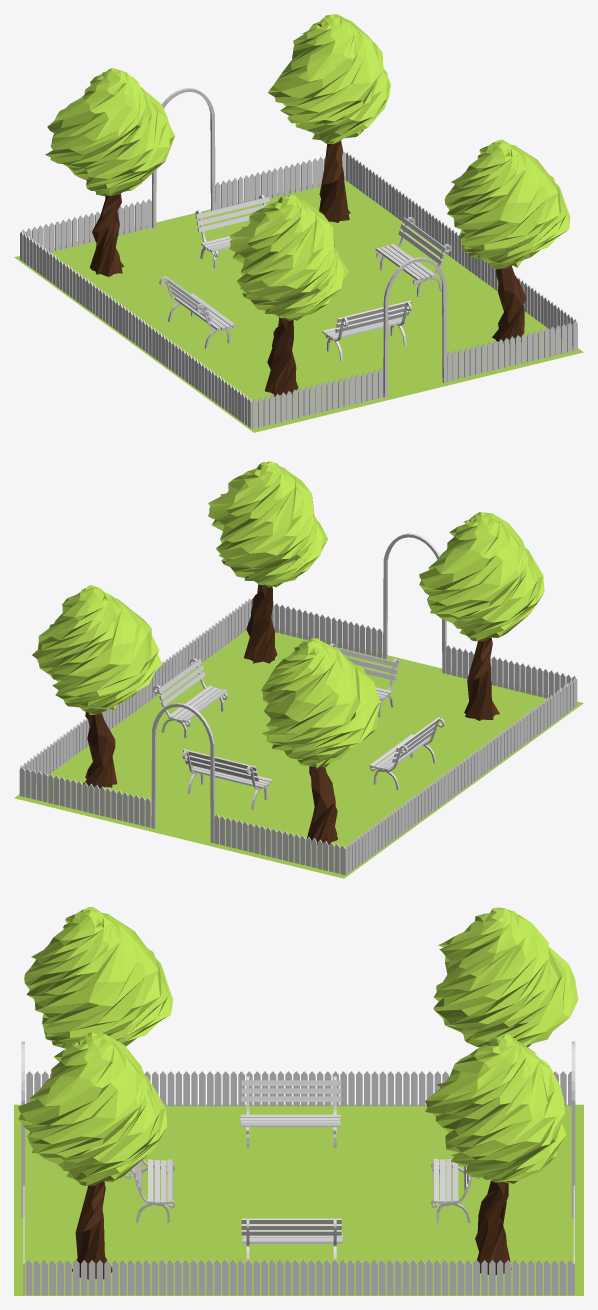
Rendered from City_Parc.fbx.
The picture shows the model from 3 angles, top to bottom: view 1: azimuth 30°, elevation 25°; view 2: azimuth 150°, elevation 25°; view 3: azimuth 270°, elevation 25°; orthographic projection. The views are drawn at different scales.
Parts seen in each view (by area): view 1: Cube.003; view 2: Cube.003; view 3: Cube.003.
Part boxes in pixels (x1,y1,x2,y2): Cube.003: (14,14,583,432); Cube.003: (14,461,583,878); Cube.003: (14,907,583,1295).
Size of the model in its own units: 416 by 237 by 509.
